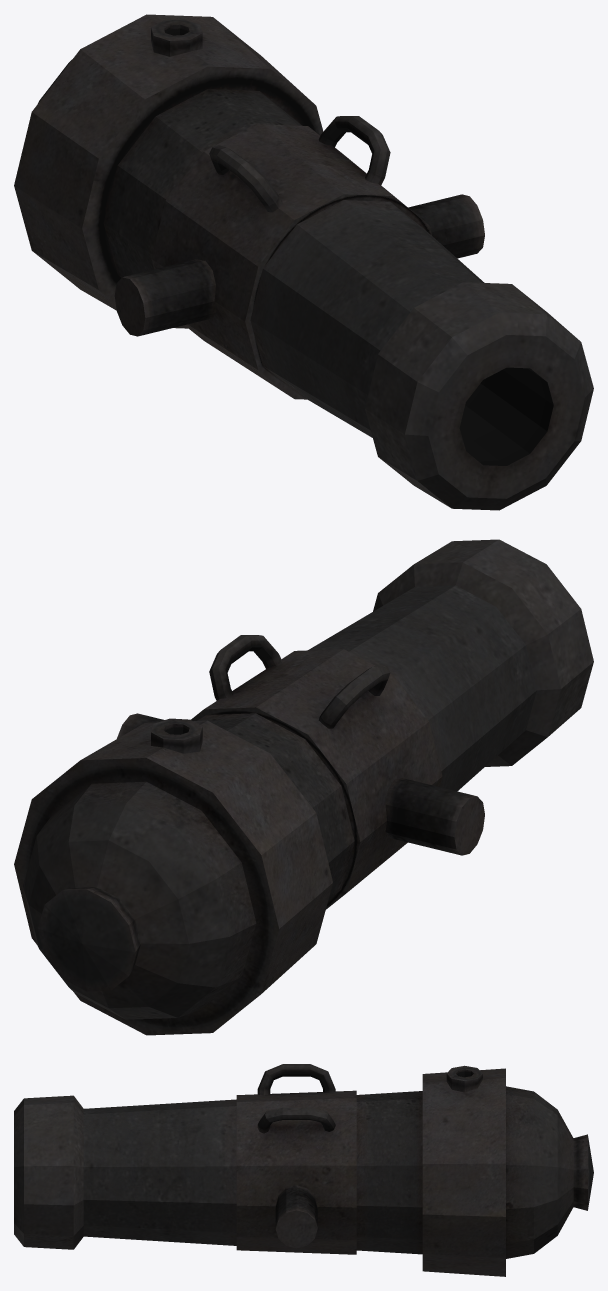
File: shortcannon.obj
3 views of the same model, one above another, from view 1: azimuth 30°, elevation 25°; view 2: azimuth 150°, elevation 25°; view 3: azimuth 270°, elevation 25° (orthographic). The views are drawn at different scales.
Visible parts, largest first — view 1: shortcannonmesh; view 2: shortcannonmesh; view 3: shortcannonmesh.
Boxes of the visible parts, left/top/right/bottom form: shortcannonmesh: left=14, top=14, right=593, bottom=510; shortcannonmesh: left=14, top=539, right=593, bottom=1035; shortcannonmesh: left=14, top=1064, right=593, bottom=1276.
Bounding box in the file's own units: 1.2 × 0.9582 × 2.6.
